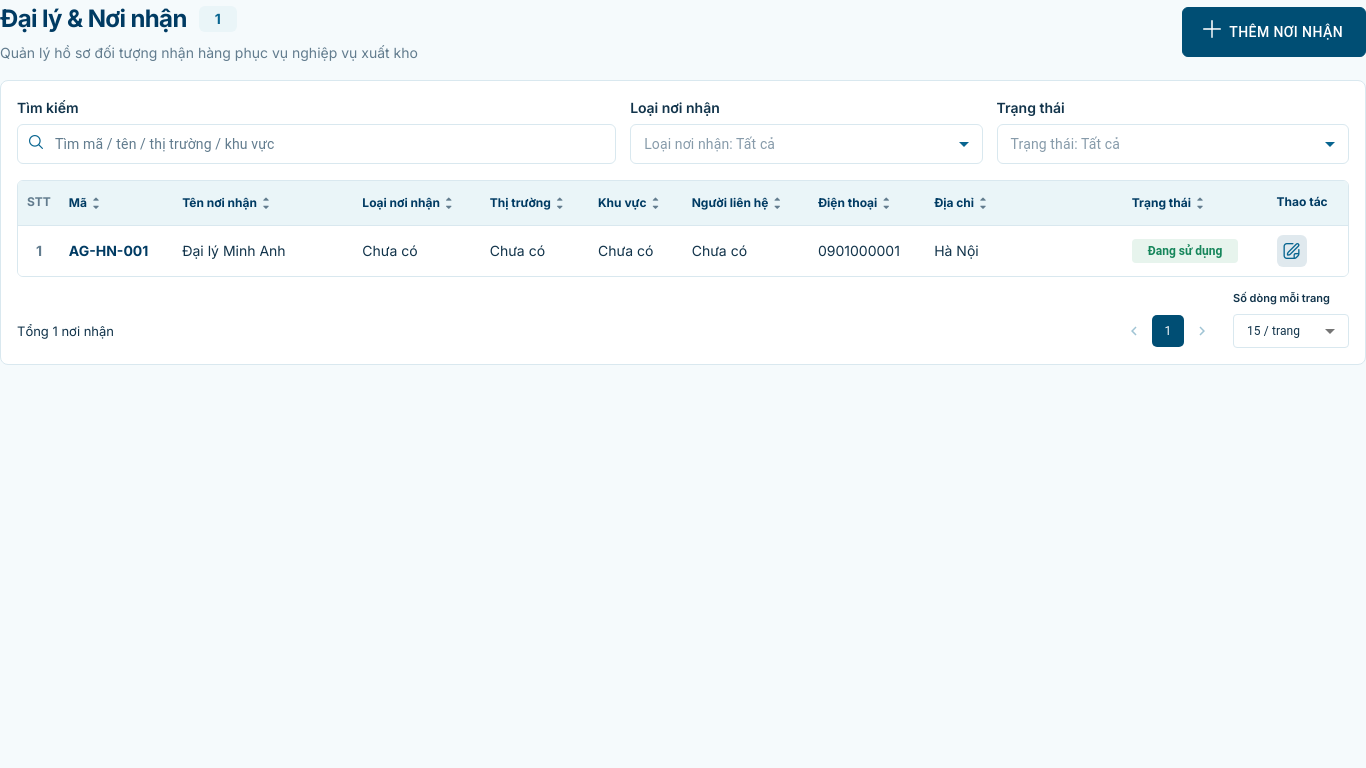
API-backed MVP master screens › loads agency data and opens add/edit modal
Expected: the text "Đại lý Minh Anh" is shown, [182,242,286,259]
Note: REQ-001: màn master đổi nhãn "Đại lý" → "Nơi nhận".
Click the button "Thêm nơi nhận" at (1274, 32), box [1182,7,1365,57]
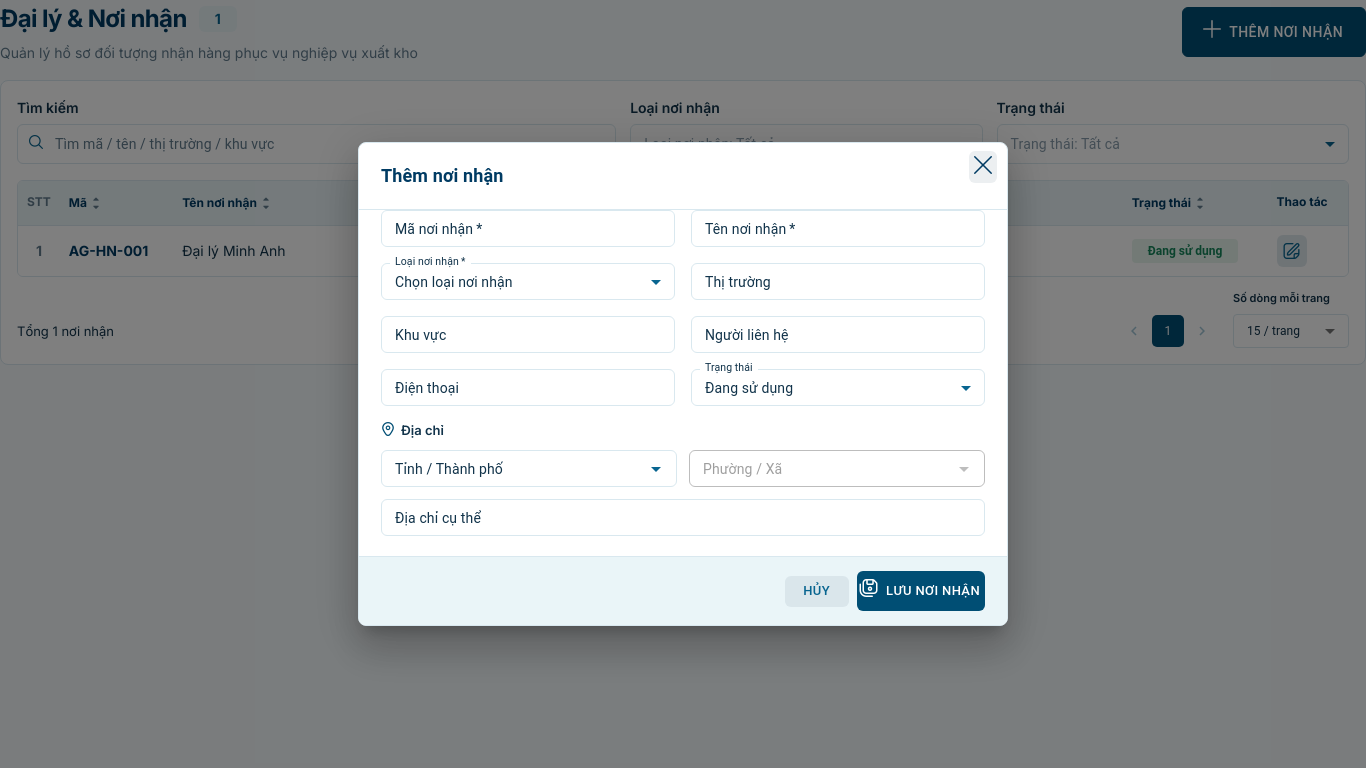
Now the dialog is shown, box [358,142,1008,626]
